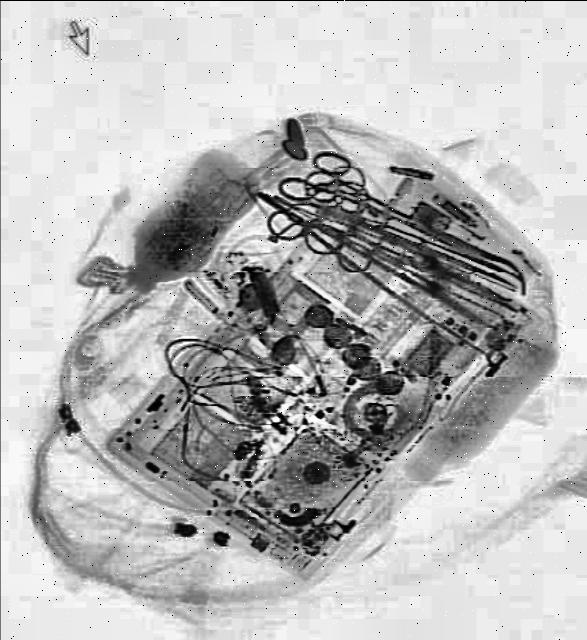Scissors: (276, 136, 418, 254)
